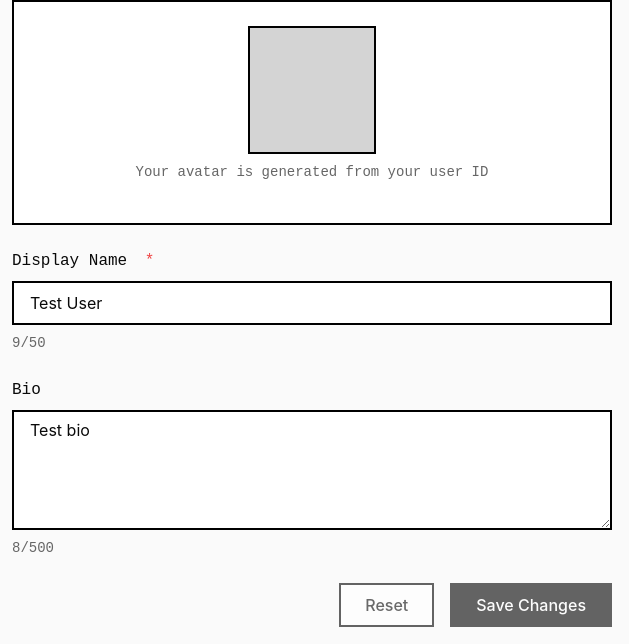
Scenario: ProfileForm › Validation › validates display name minimum length
The image size is (629, 644).
Replace the text in the field with id "display-name" with "A" at (312, 303), box [12,281,612,325]
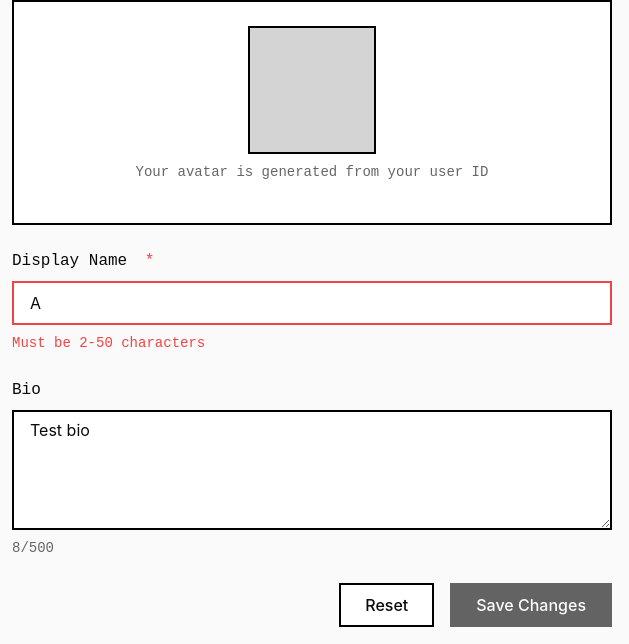
Now the text "Must be 2-50 characters" is shown, box [12,333,205,354]
Now the text with class "error-text" shows "2-50 characters", box [12,335,205,351]
